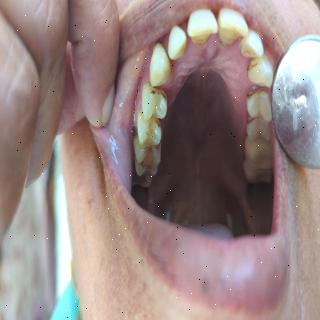UL1BC_sdecay: (246, 88, 273, 122)
UL1M_healthy: (245, 139, 273, 169)
UL2BC_sdecay: (246, 115, 272, 141)
UL2M_healthy: (242, 159, 273, 183)
ULCI_healthy: (219, 7, 248, 45)
ULC_sdecay: (248, 57, 273, 88)
ULLI_healthy: (241, 29, 264, 58)
UR1BC_sdecay: (141, 83, 168, 119)
UR1M_sdecay: (133, 136, 161, 176)
UR2BC_sdecay: (136, 112, 162, 146)
URCI_healthy: (187, 8, 218, 44)
URC_healthy: (149, 43, 172, 87)
URLI_healthy: (167, 26, 186, 60)
